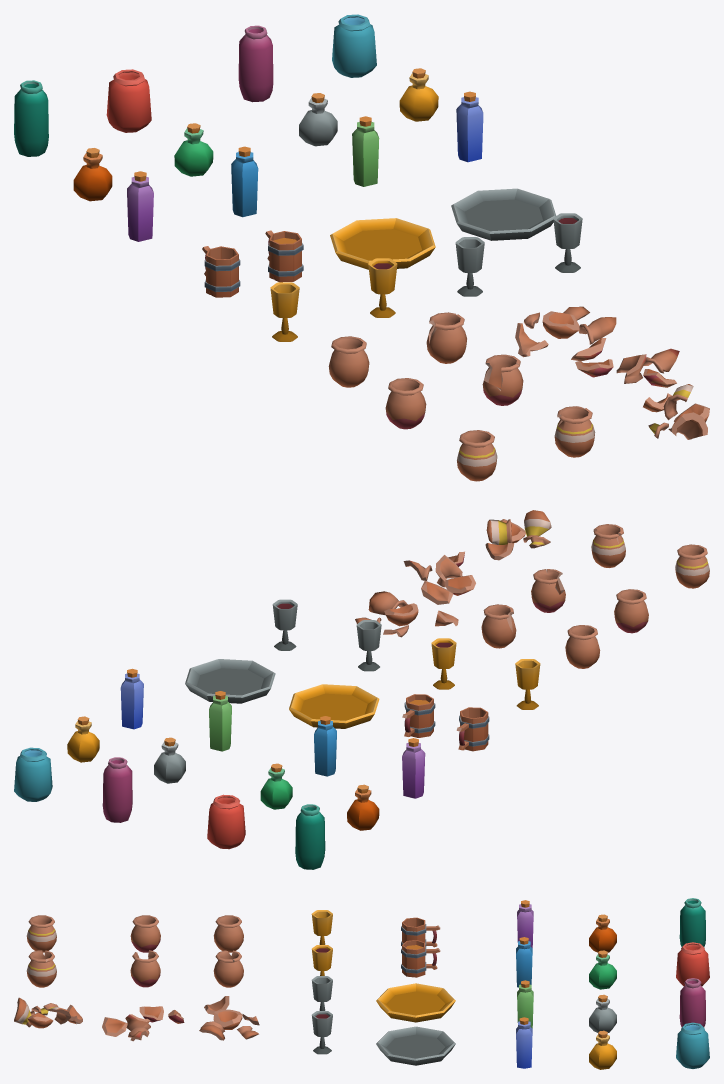
File: Dishes.fbx
The picture shows the model from 3 angles, top to bottom: view 1: azimuth 30°, elevation 25°; view 2: azimuth 150°, elevation 25°; view 3: azimuth 270°, elevation 25°; orthographic projection. The views are drawn at different scales.
Parts seen in each view (by area): view 1: Plate.001, Plate, Bottle.004, Bottle.006, Bottle.005, Bottle.011, Jar_pieces, Jar_pieces.001, Jar_pieces.002, Jar.001, Jar.002, Jar (+17 smaller); view 2: Plate.001, Plate, Jar_pieces.002, Jar_pieces.001, Bottle.006, Bottle.004, Bottle.011, Bottle.005, Jar_pieces, Jar.001, Jar.002, Jar (+17 smaller); view 3: Plate, Plate.001, Jar_pieces.001, Bottle.006, Jar_pieces, Jar_pieces.002, Bottle.004, Bottle.011, Bottle.005, Mug.001, Jar_broken.002, Jar.001 (+17 smaller).
Boxes of the visible parts, bbox=[...] form: Plate.001: bbox=[451, 188, 556, 240]; Plate: bbox=[330, 218, 435, 269]; Bottle.004: bbox=[106, 69, 151, 132]; Bottle.006: bbox=[332, 14, 376, 77]; Bottle.005: bbox=[14, 80, 48, 156]; Bottle.011: bbox=[238, 25, 273, 102]; Jar_pieces: bbox=[515, 306, 616, 357]; Jar_pieces.001: bbox=[571, 338, 679, 387]; Jar_pieces.002: bbox=[643, 384, 709, 439]; Jar.001: bbox=[385, 378, 426, 429]; Jar.002: bbox=[457, 430, 497, 481]; Jar: bbox=[328, 336, 369, 387]; Plate.001: bbox=[185, 659, 275, 703]; Plate: bbox=[289, 684, 379, 728]; Jar_pieces.002: bbox=[485, 510, 551, 560]; Jar_pieces.001: bbox=[403, 551, 475, 604]; Bottle.006: bbox=[14, 747, 52, 801]; Bottle.004: bbox=[207, 794, 245, 849]; Bottle.011: bbox=[102, 757, 132, 822]; Bottle.005: bbox=[295, 804, 325, 869]; Jar_pieces: bbox=[355, 591, 458, 637]; Jar.001: bbox=[614, 589, 648, 633]; Jar.002: bbox=[675, 544, 709, 588]; Jar: bbox=[565, 625, 600, 668]; Plate: bbox=[376, 983, 455, 1022]; Plate.001: bbox=[376, 1026, 455, 1065]; Jar_pieces.001: bbox=[102, 1006, 184, 1041]; Bottle.006: bbox=[676, 1022, 709, 1068]; Jar_pieces: bbox=[199, 996, 259, 1040]; Jar_pieces.002: bbox=[14, 997, 82, 1028]; Bottle.004: bbox=[676, 942, 709, 986]; Bottle.011: bbox=[679, 978, 705, 1027]; Bottle.005: bbox=[679, 898, 705, 947]; Mug.001: bbox=[401, 940, 440, 977]; Jar_broken.002: bbox=[26, 950, 56, 987]; Jar.001: bbox=[130, 915, 160, 952].
Bounding box in the file's own units: 1.63 × 0.3129 × 3.72.
